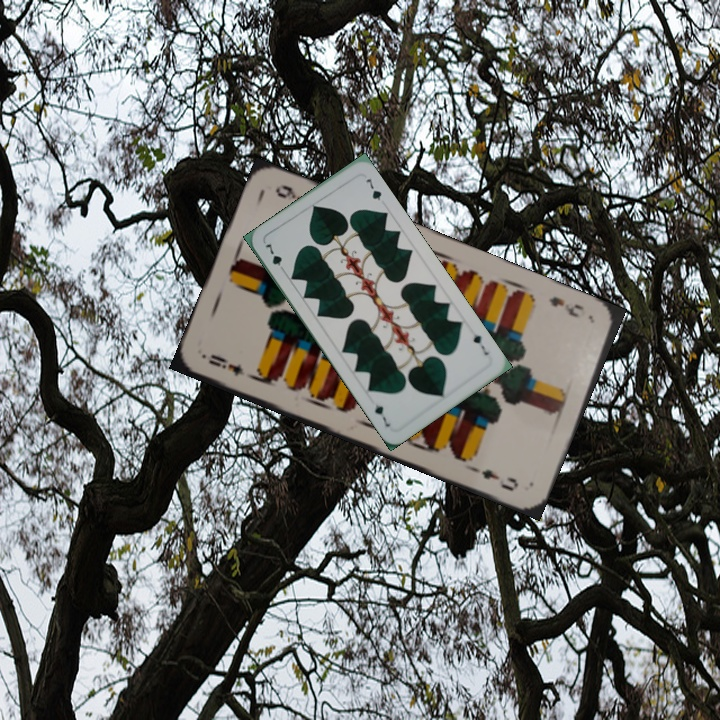E9: (204, 350, 247, 379), (545, 292, 587, 321)
G7: (261, 240, 288, 275), (469, 330, 491, 358)
